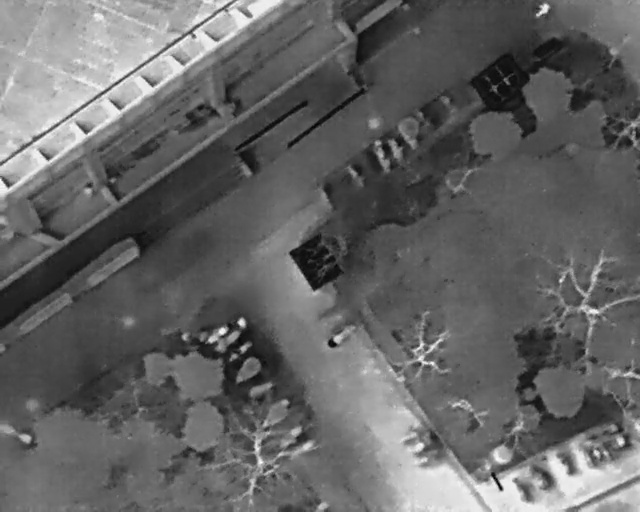Bicycle: (211, 313, 254, 359), (224, 352, 270, 393), (395, 116, 430, 154), (282, 434, 322, 467), (272, 419, 308, 453), (323, 320, 359, 351), (310, 176, 336, 215), (383, 132, 411, 168), (510, 471, 538, 507), (367, 138, 393, 176), (223, 338, 257, 367), (343, 156, 370, 191), (398, 419, 429, 447), (551, 446, 577, 478), (408, 432, 442, 456), (204, 318, 233, 346)
DontCare: (573, 415, 639, 471)
Person: (534, 2, 551, 20)
